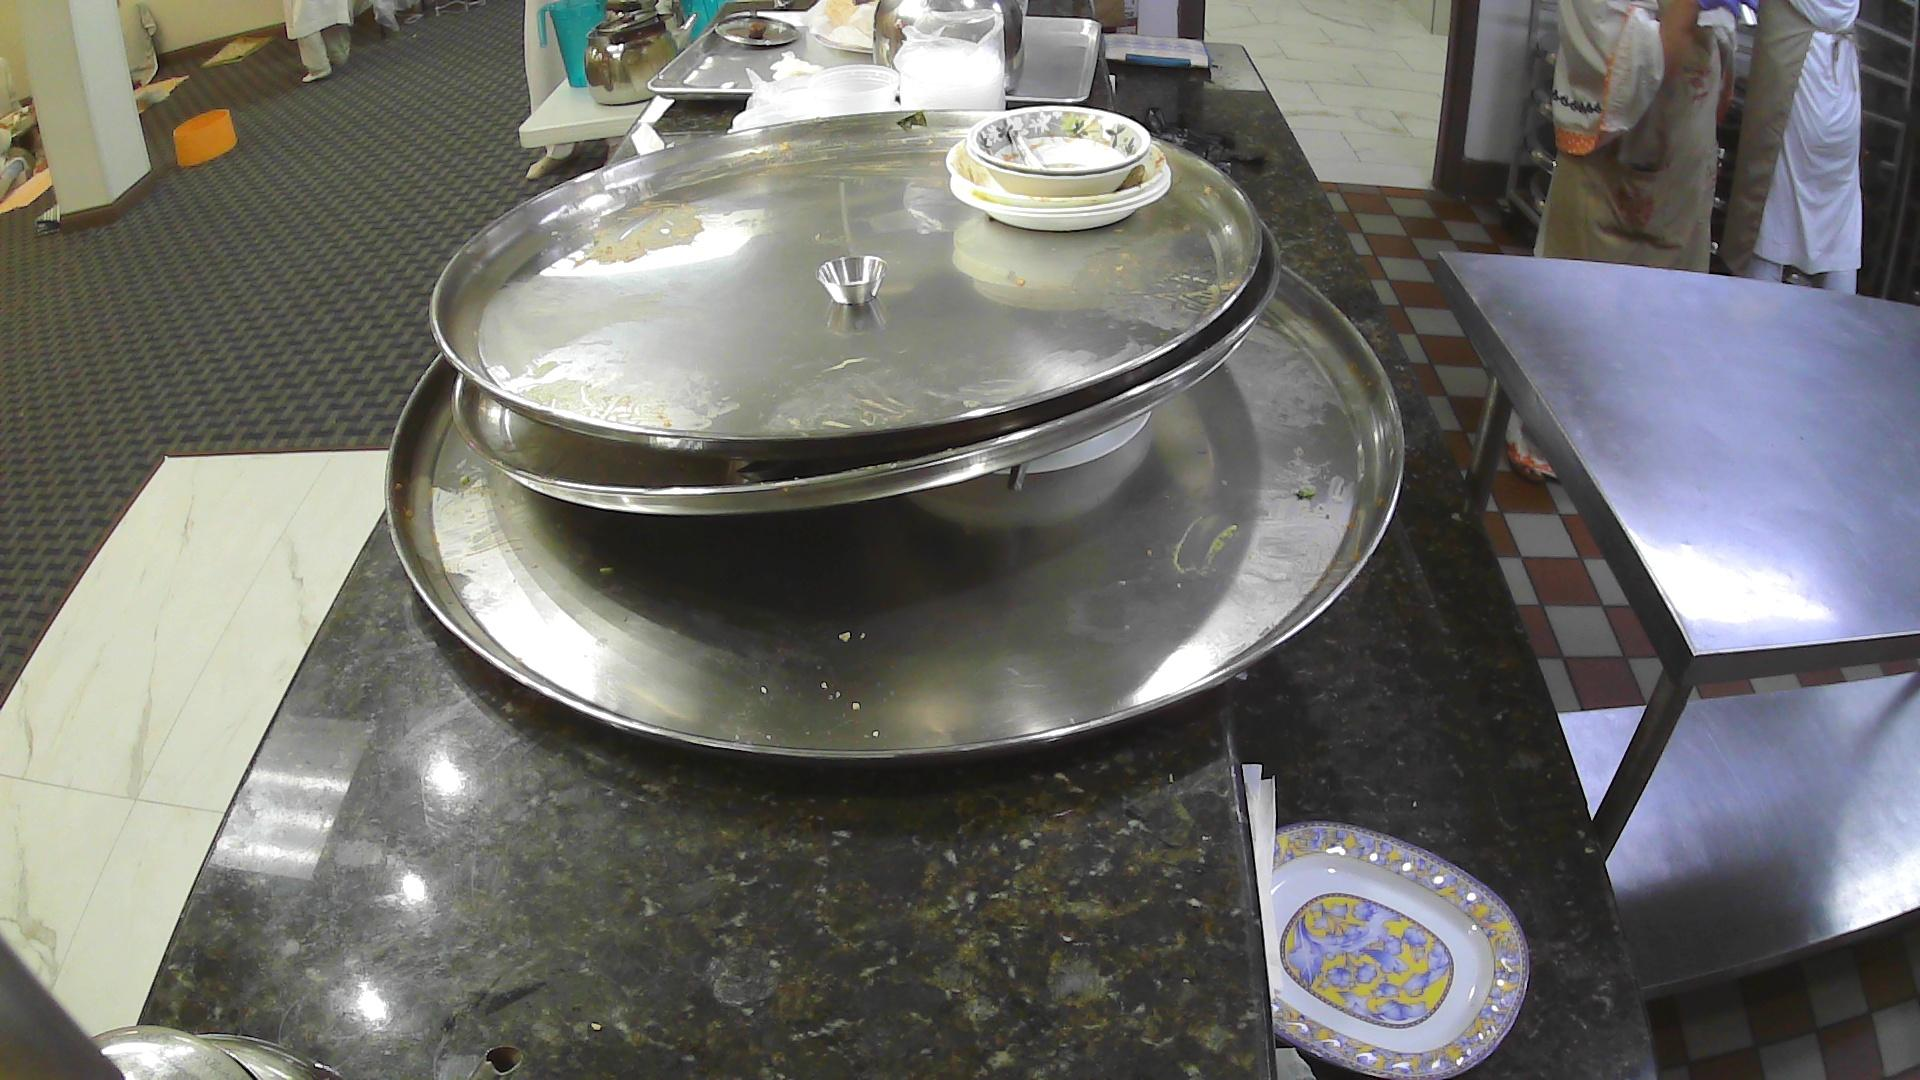thaal: (378, 258, 1414, 773), (423, 105, 1267, 467), (447, 223, 1282, 522)
